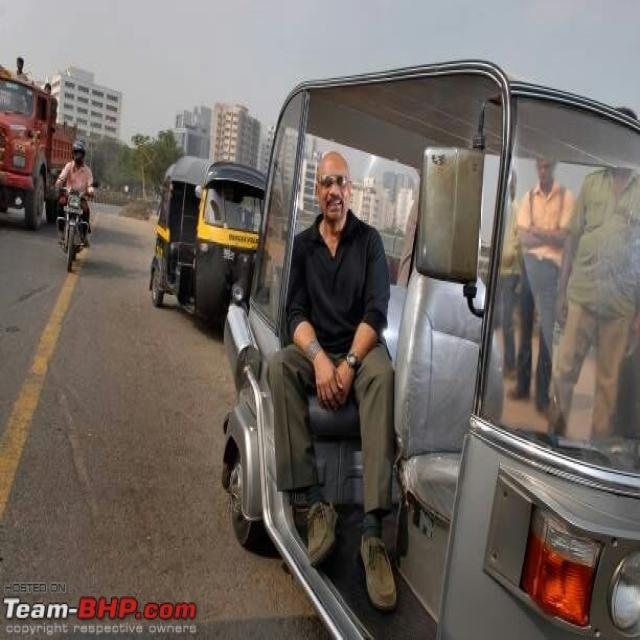autorickshaw: (221, 62, 640, 638), (150, 157, 265, 322)
motorcycle: (56, 140, 94, 271)
truck: (0, 67, 76, 229)
